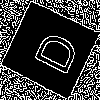D: (24, 24, 80, 77)
